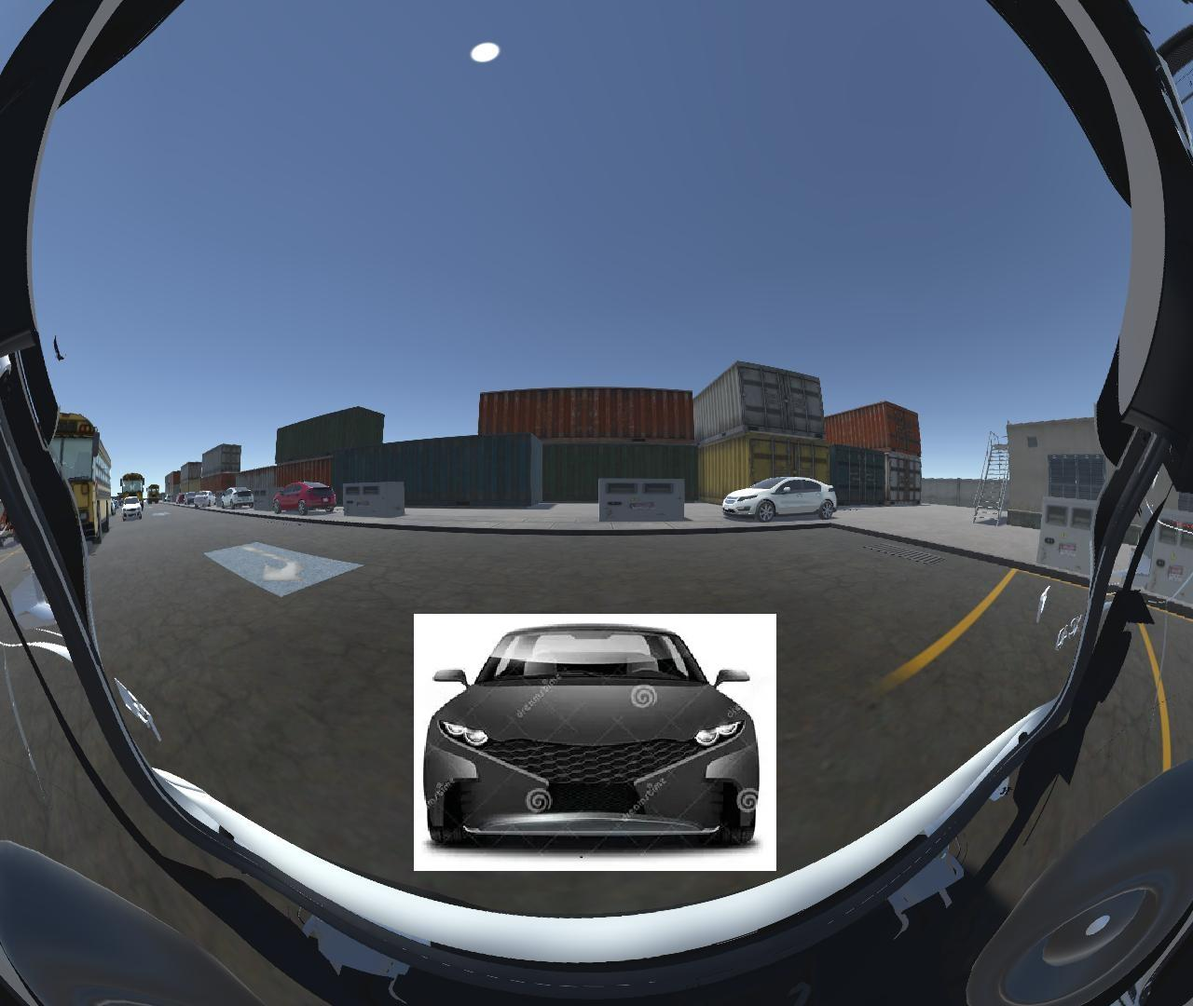Car: (412, 613, 775, 872)
